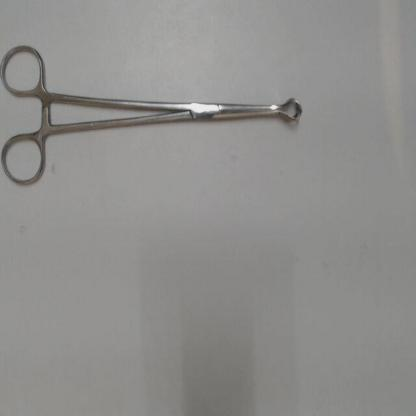8 Babcock Tissue Forceps: (0, 36, 307, 189)
